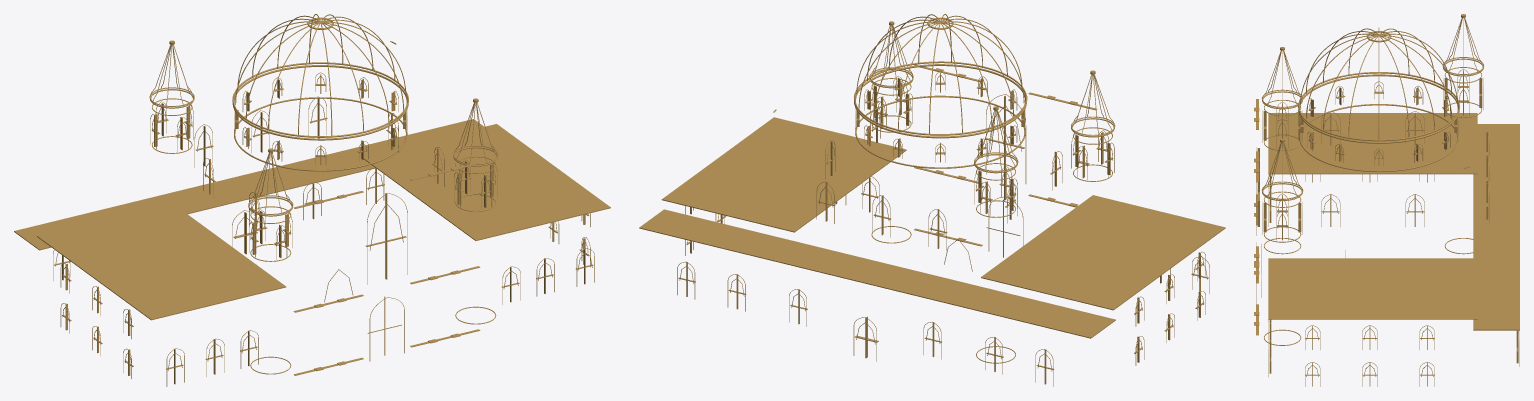
File: castle-06.glb
3 views of the same model, side by side, from view 1: azimuth 30°, elevation 25°; view 2: azimuth 150°, elevation 25°; view 3: azimuth 270°, elevation 25° (orthographic). The views are drawn at different scales.
Visible parts, largest first — view 1: NC.Export.Palace.RoyalGold.00, NC.Export.Palace.RoyalGold.01; view 2: NC.Export.Palace.RoyalGold.00, NC.Export.Palace.RoyalGold.01; view 3: NC.Export.Palace.RoyalGold.00, NC.Export.Palace.RoyalGold.01.
Boxes of the visible parts, left/top/right/bottom form: NC.Export.Palace.RoyalGold.00: left=14, top=14, right=610, bottom=386; NC.Export.Palace.RoyalGold.01: left=149, top=40, right=498, bottom=374; NC.Export.Palace.RoyalGold.00: left=639, top=14, right=1225, bottom=386; NC.Export.Palace.RoyalGold.01: left=773, top=21, right=1115, bottom=363; NC.Export.Palace.RoyalGold.00: left=1254, top=28, right=1519, bottom=386; NC.Export.Palace.RoyalGold.01: left=1261, top=14, right=1483, bottom=345.
Size of the model in its own units: 80.72 by 48.12 by 44.08.
